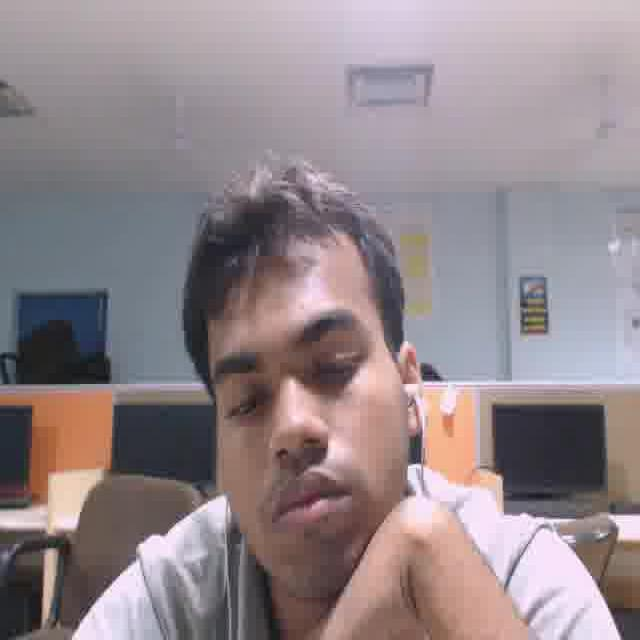Boredom: (209, 268, 396, 567)
